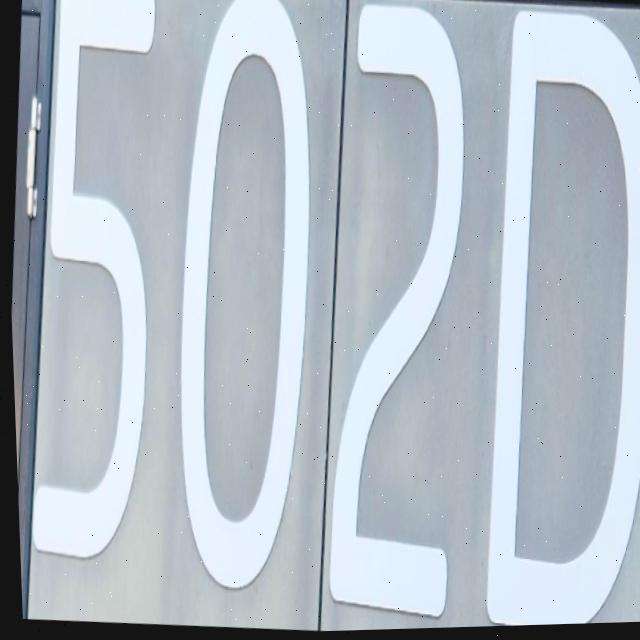character: (301, 0, 495, 631), (147, 0, 342, 600), (460, 0, 640, 626), (8, 0, 183, 571)
